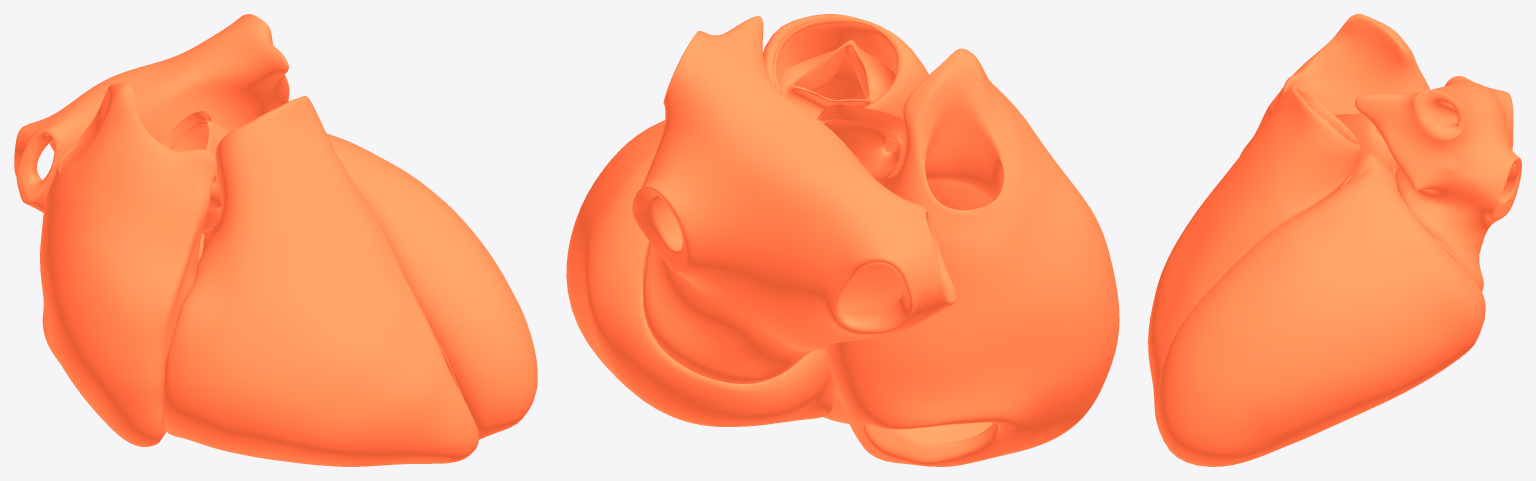
File: corvista_reference_heart.glb
The picture shows the model from 3 angles, left to right: view 1: azimuth 30°, elevation 25°; view 2: azimuth 150°, elevation 25°; view 3: azimuth 270°, elevation 25°; orthographic projection. The views are drawn at different scales.
Visible parts, largest first — view 1: VH_M_heart_right_ventricle, VH_M_right_cardiac_atrium, VH_M_heart_left_ventricle, VH_M_left_cardiac_atrium, VH_M_aortic_valve; view 2: VH_M_left_cardiac_atrium, VH_M_right_cardiac_atrium, VH_M_heart_left_ventricle, VH_M_heart_right_ventricle, VH_M_pulmonary_valve, VH_M_aortic_valve; view 3: VH_M_heart_left_ventricle, VH_M_heart_right_ventricle, VH_M_left_cardiac_atrium, VH_M_right_cardiac_atrium, VH_M_aortic_valve.
Boxes of the visible parts, left/top/right/bottom form: VH_M_heart_right_ventricle: left=162, top=96, right=478, bottom=466; VH_M_right_cardiac_atrium: left=40, top=82, right=216, bottom=446; VH_M_heart_left_ventricle: left=202, top=133, right=537, bottom=439; VH_M_left_cardiac_atrium: left=14, top=14, right=289, bottom=212; VH_M_aortic_valve: left=161, top=111, right=229, bottom=210; VH_M_left_cardiac_atrium: left=632, top=16, right=956, bottom=383; VH_M_right_cardiac_atrium: left=826, top=48, right=1119, bottom=466; VH_M_heart_left_ventricle: left=566, top=120, right=833, bottom=426; VH_M_heart_right_ventricle: left=763, top=14, right=928, bottom=423; VH_M_pulmonary_valve: left=773, top=19, right=895, bottom=118; VH_M_aortic_valve: left=817, top=104, right=905, bottom=188; VH_M_heart_left_ventricle: left=1156, top=153, right=1485, bottom=466; VH_M_heart_right_ventricle: left=1148, top=86, right=1360, bottom=442; VH_M_left_cardiac_atrium: left=1355, top=76, right=1521, bottom=291; VH_M_right_cardiac_atrium: left=1240, top=14, right=1429, bottom=155; VH_M_aortic_valve: left=1334, top=112, right=1398, bottom=169.
Bounding box in the file's own units: 0.1244 × 0.1054 × 0.1052.
